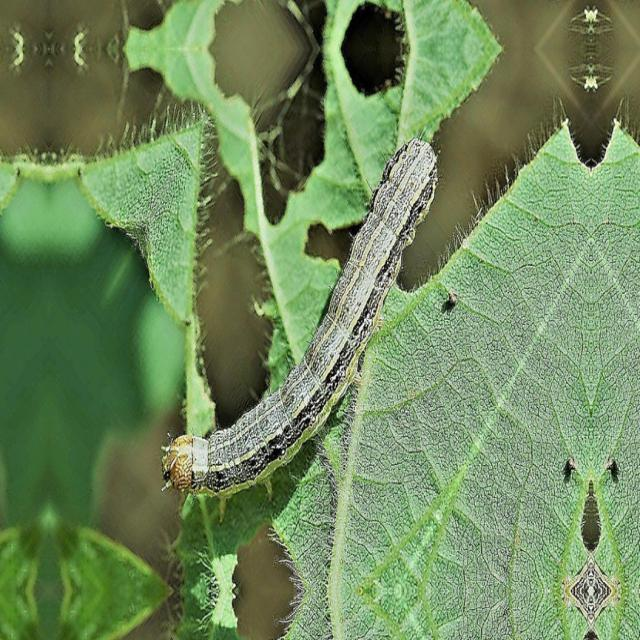Armyworm: (134, 135, 453, 503)
Armyworm_damage: (336, 1, 429, 112)
